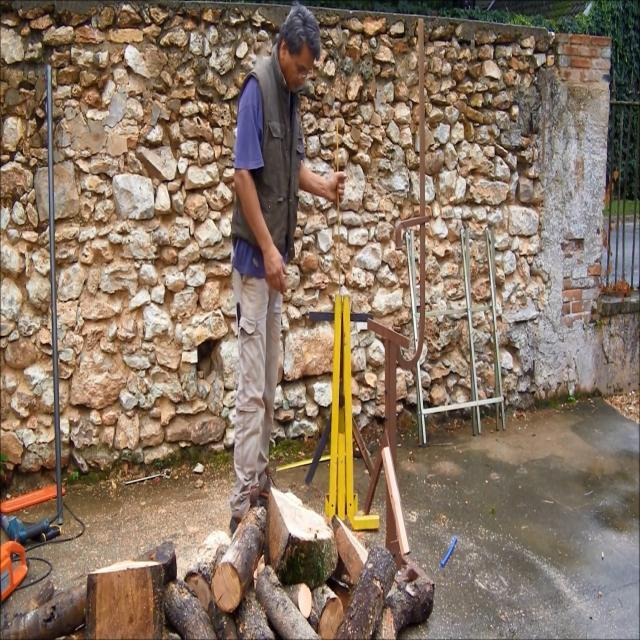Chainsaw: (0, 489, 58, 634)
